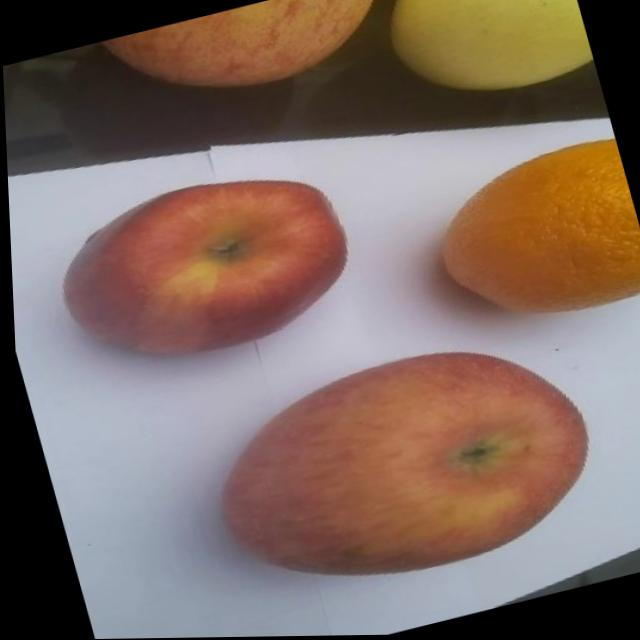Apple: (185, 322, 611, 615), (38, 154, 366, 385), (98, 0, 401, 121)
Orange: (416, 137, 640, 343)
